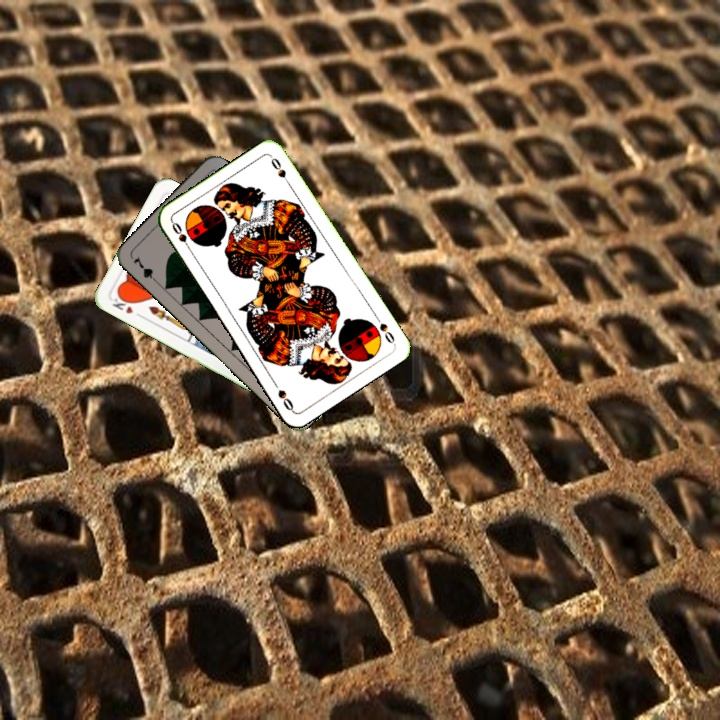G7: (129, 252, 162, 287)
HK: (108, 290, 145, 321)
SO: (371, 311, 398, 347), (168, 218, 194, 255)
